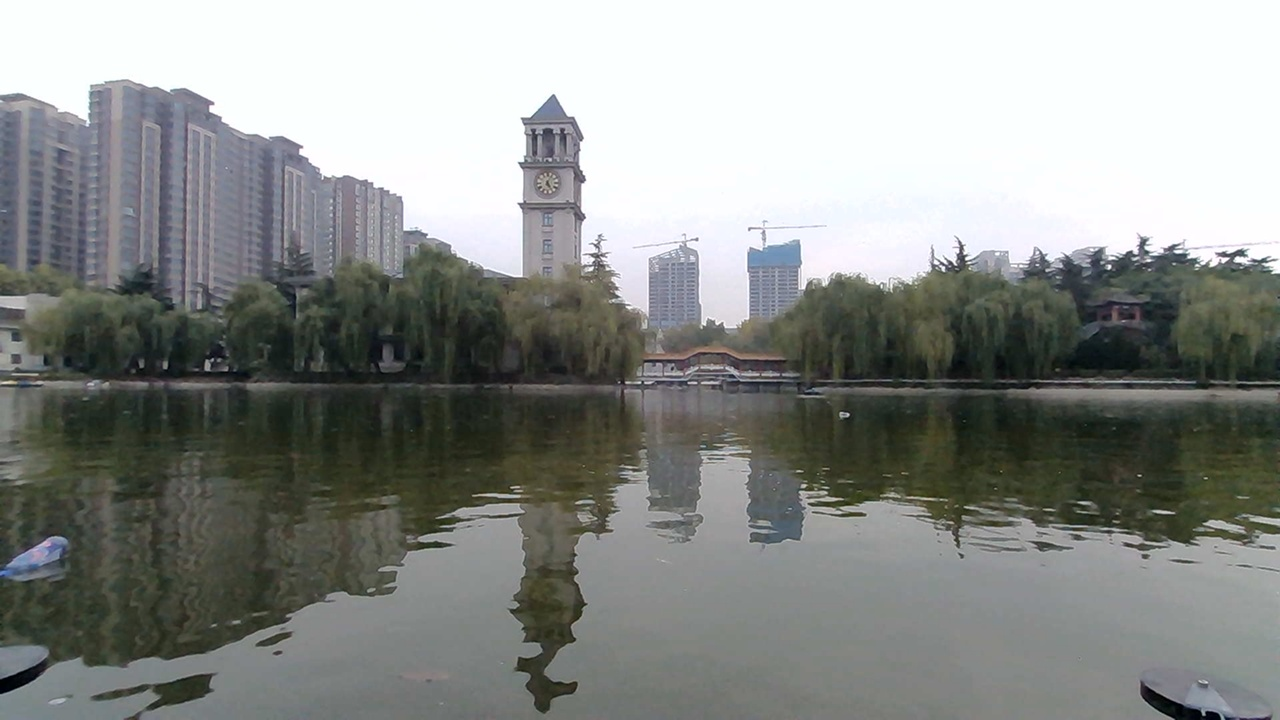bottle: (0, 521, 80, 604), (822, 403, 868, 427)
